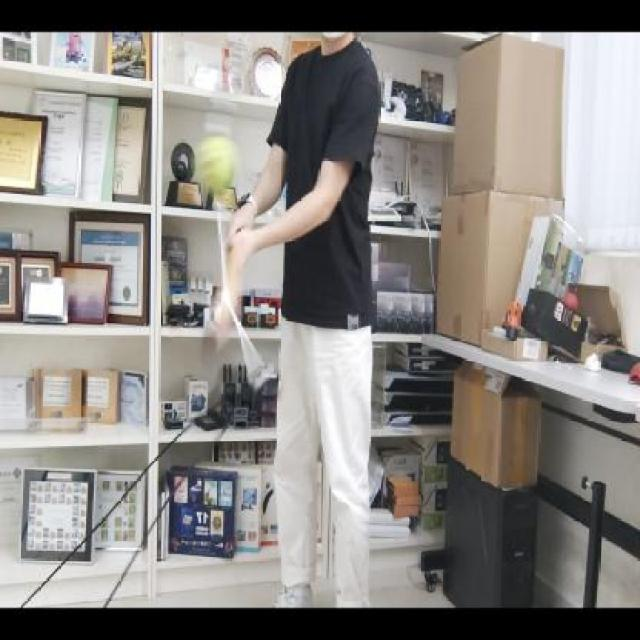baseball: (190, 134, 233, 203)
